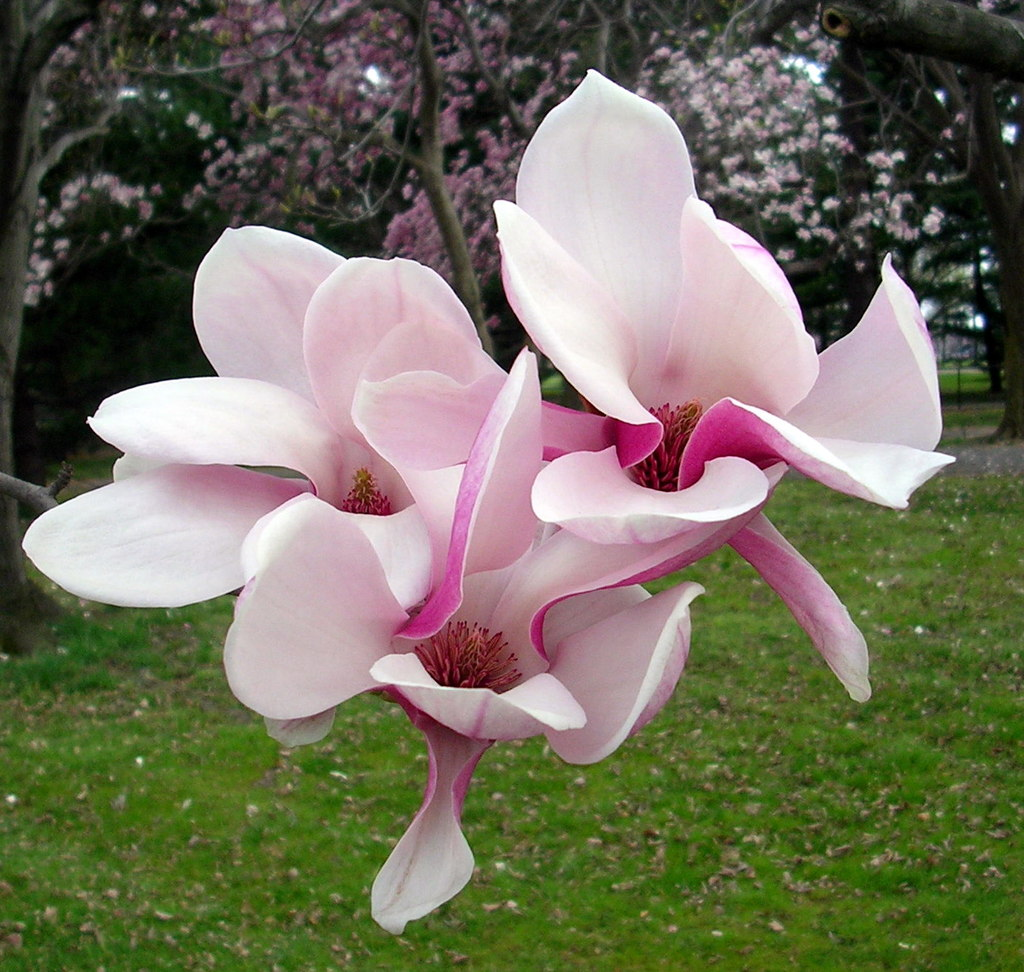Tree: (0, 0, 1024, 657)
